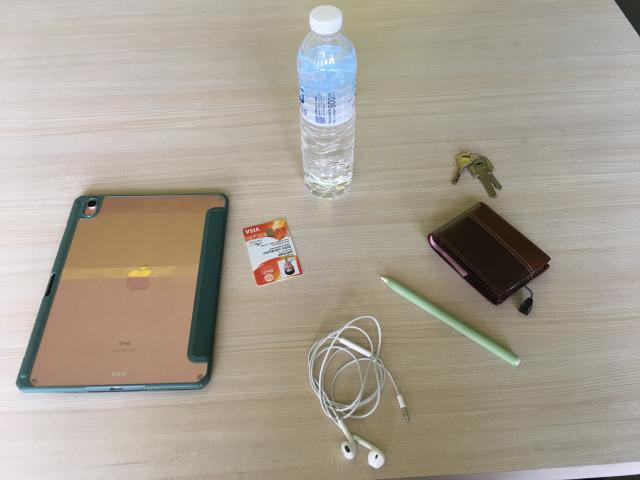Keys: (446, 147, 510, 198)
Wallet: (424, 207, 556, 308)
bottle: (288, 1, 368, 204)
wire: (311, 317, 410, 472)
